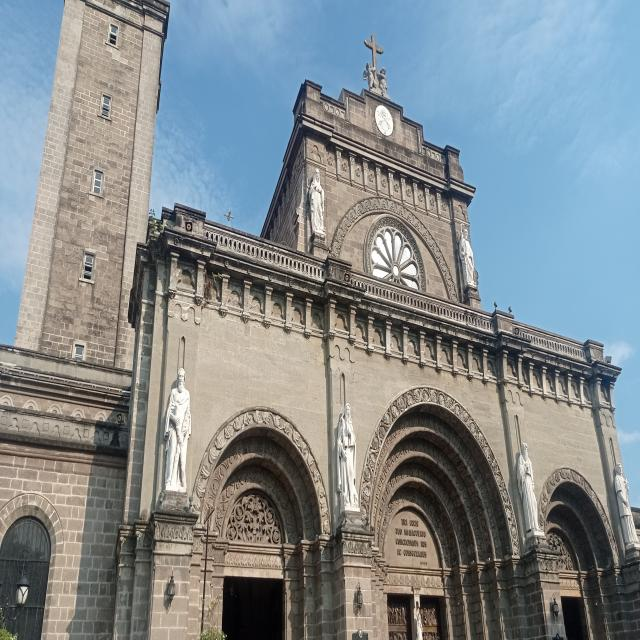Manila Cathedral: (0, 0, 640, 640)
